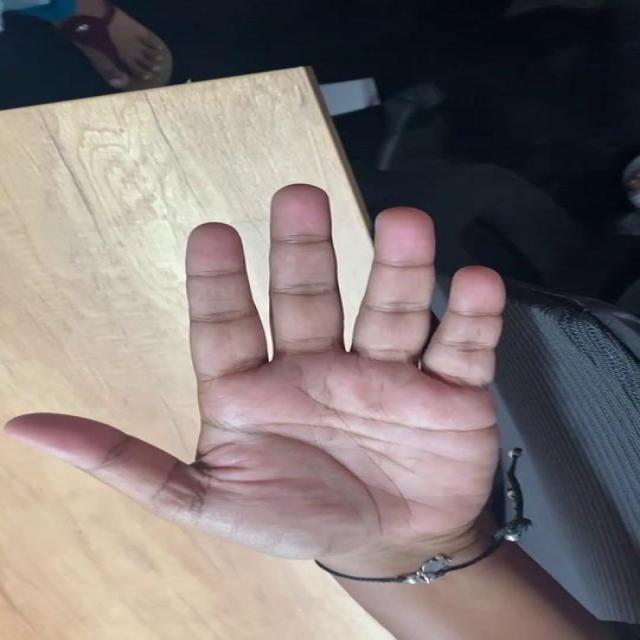no-gloves: (0, 176, 573, 585)
